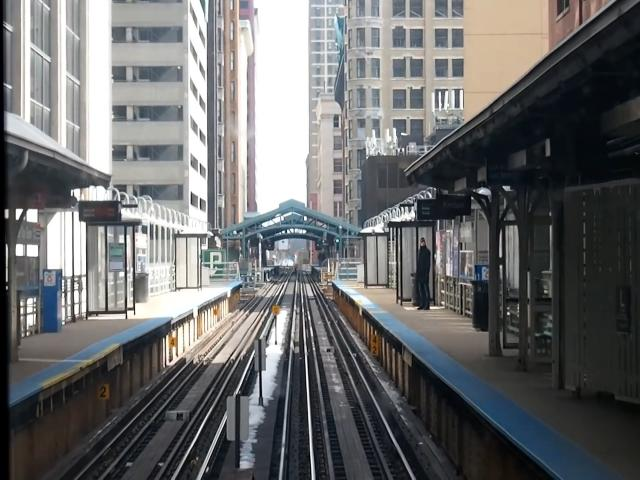signal light: (337, 238, 342, 255)
